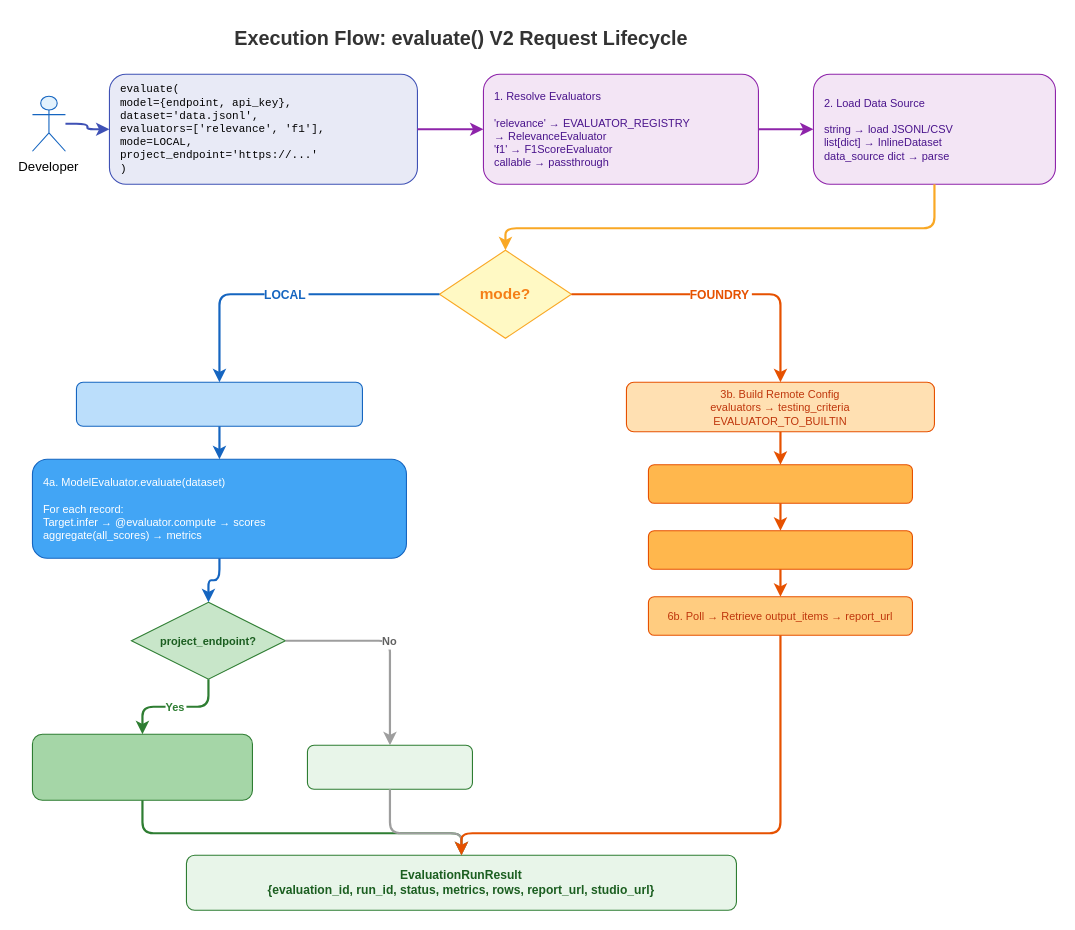
Image size: 1075x930. Some labels were removed from this diagram. The shapes that lost their labels are listed below. From the top down, each one's box as (x1, y1, x2, y2) in pixels, then its label:
(75, 381, 362, 426): 3a. Build Config Config.from_params()
(647, 464, 912, 503): 4b. client.evals.create() → eval_id
(647, 530, 912, 569): 5b. client.evals.runs.create() → run_id
(31, 733, 252, 800): 5a. FoundryTrackingBackend evals.create() → evals.runs.create() → report_url
(306, 744, 472, 789): Save to output_path report_url = None
